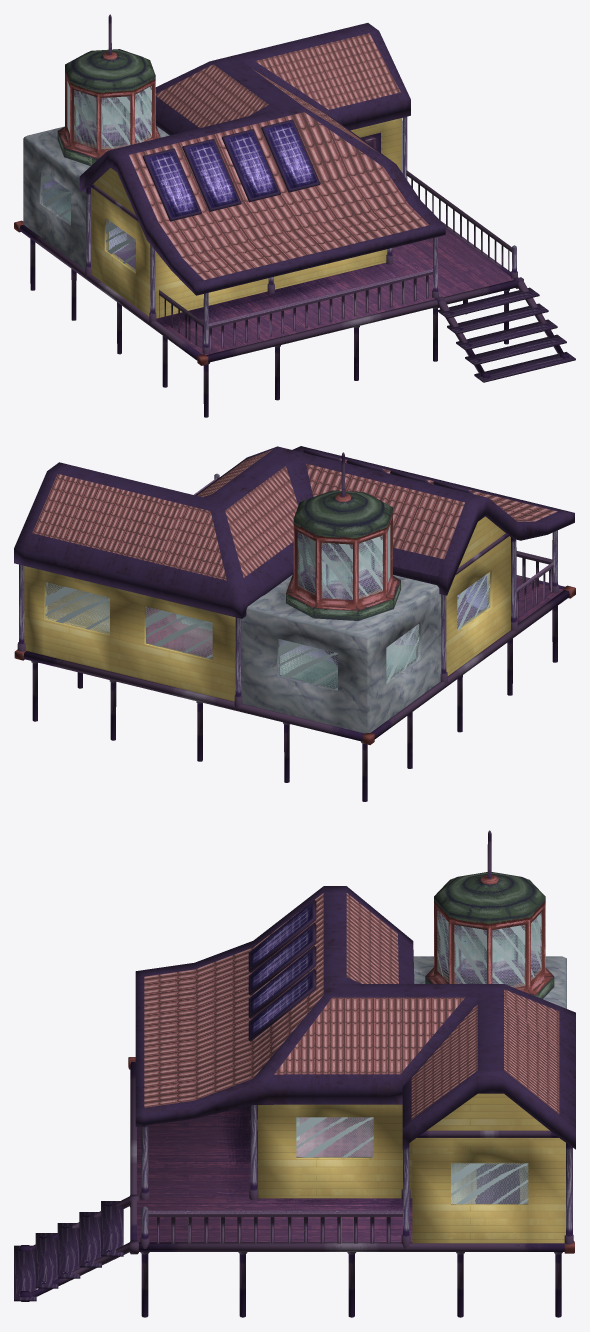
The model's file is Home.fbx.
3 views of the same model, one above another, from view 1: azimuth 30°, elevation 25°; view 2: azimuth 150°, elevation 25°; view 3: azimuth 270°, elevation 25° (orthographic). The views are drawn at different scales.
Parts seen in each view (by area): view 1: House; view 2: House; view 3: House.
Boxes of the visible parts, box(x1,y1,x2,y2) form: House: box(14, 14, 575, 417); House: box(14, 446, 575, 801); House: box(14, 830, 575, 1317).
Bounding box in the file's own units: 208 × 172 × 258.
